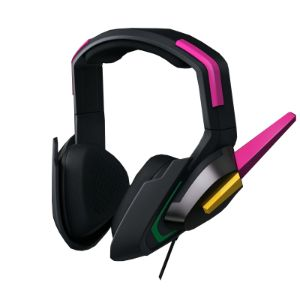headset: (36, 13, 296, 267)
